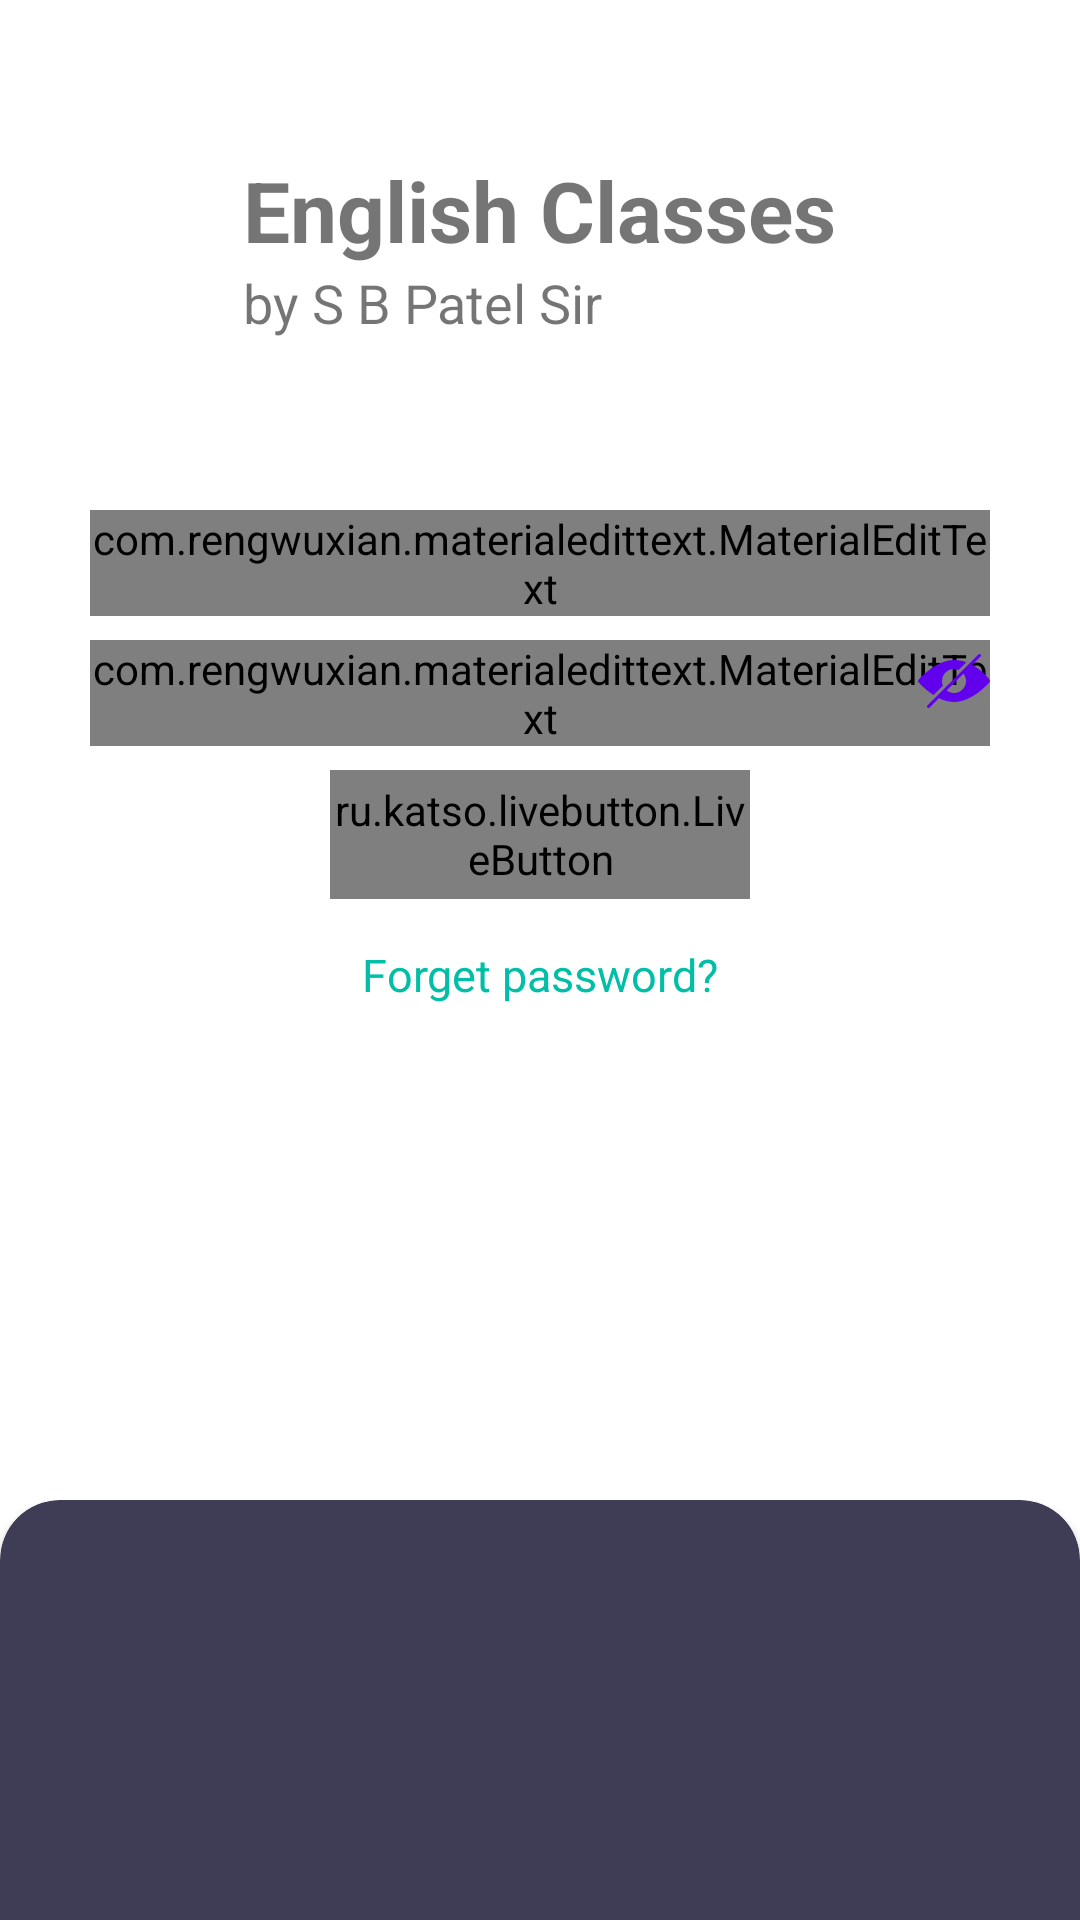

Icon bounding boxes for this 1080×1920 phone screenshot, format bbox=(x1, y1, x2, y2):
hide: bbox=(918, 654, 990, 708)
